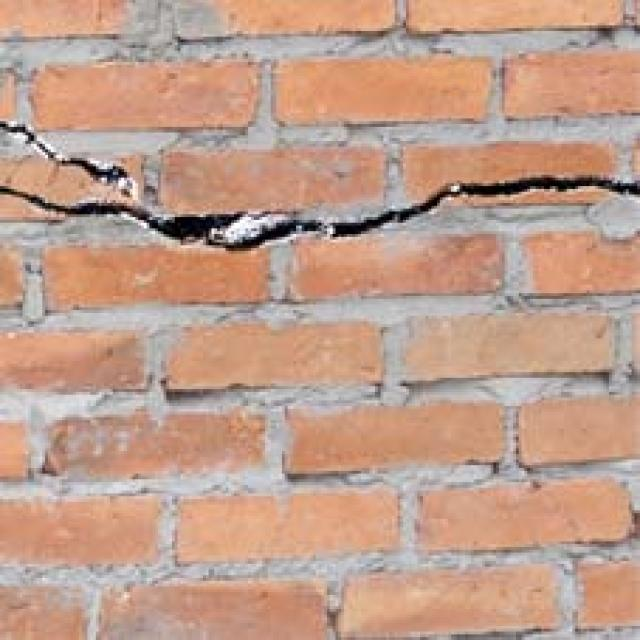Crack: (0, 77, 640, 313)
